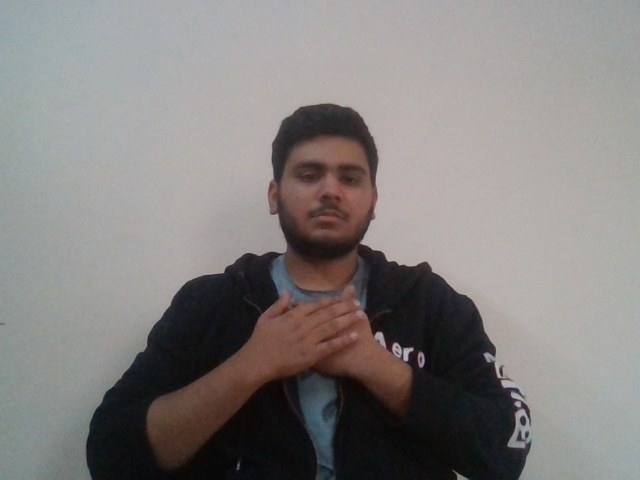Please: (240, 288, 382, 367)
